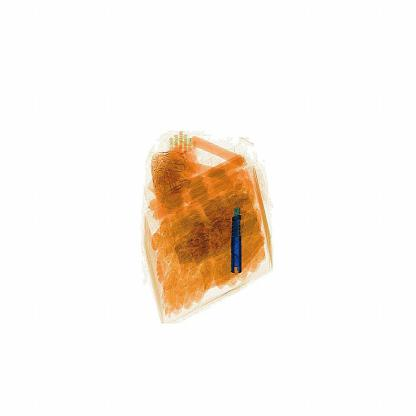pliers: (228, 205, 245, 279)
